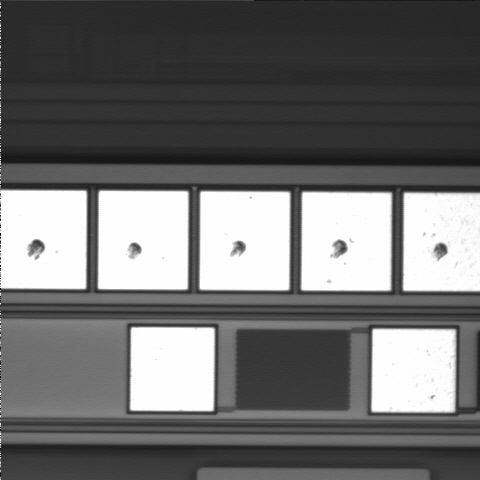pad: (200, 191, 290, 290), (301, 192, 391, 291), (98, 191, 188, 289), (130, 327, 214, 411), (372, 329, 455, 412)
